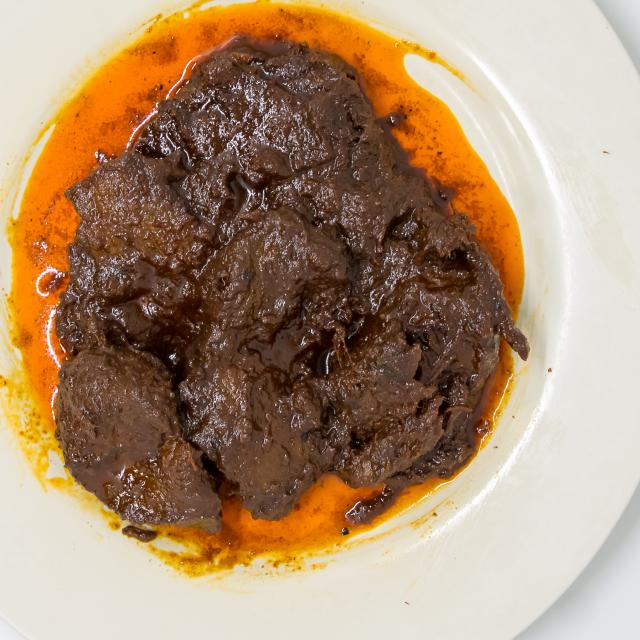Rendang: (40, 24, 536, 554)
